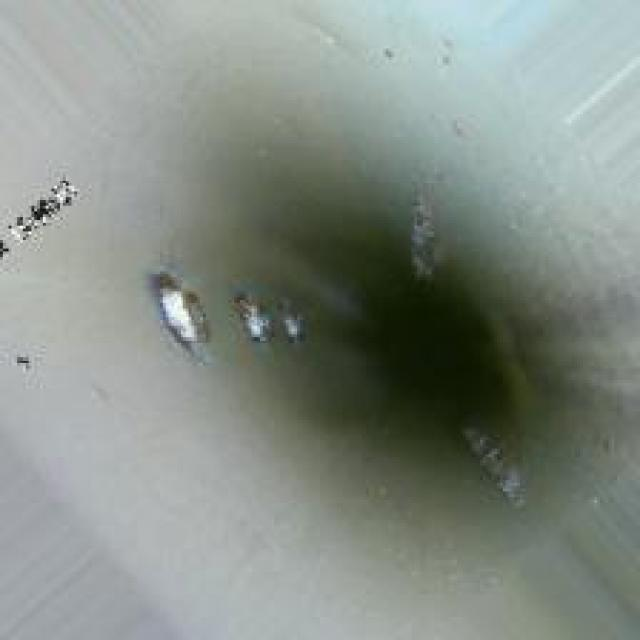ferrule: (148, 268, 206, 348), (234, 291, 269, 340), (280, 300, 303, 337)
